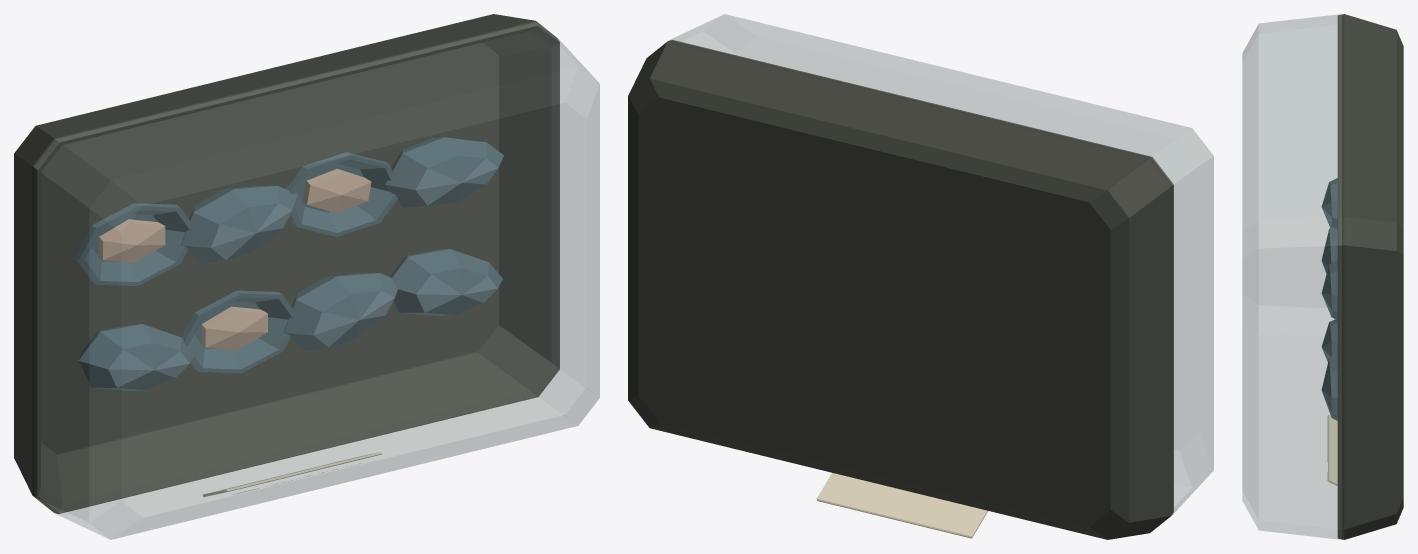
The model's file is mussels.glb.
3 renders of one model, left to right at view 1: azimuth 30°, elevation 25°; view 2: azimuth 150°, elevation 25°; view 3: azimuth 270°, elevation 25°, orthographic. The views are drawn at different scales.
Visible parts, largest first — view 1: mussels; view 2: mussels; view 3: mussels.
Part boxes in pixels (box(x1,y1,x2,y2)): mussels: box(14, 14, 599, 539); mussels: box(628, 14, 1213, 539); mussels: box(1242, 14, 1403, 539).
Size of the model in its own units: 0.22 by 0.1639 by 0.068.
